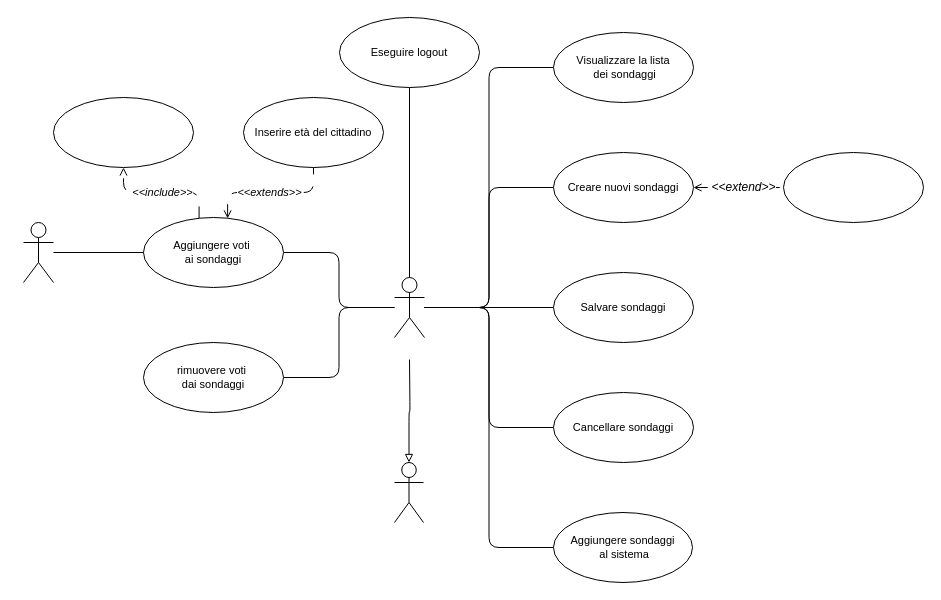
The diagram is 941 pixels wide and 600 high, and some of its shapes have lost their labels. Here are the shapes that lost their labels. From the top down, the centre of each, then its label:
the point at 123,132: Inserire circoscrizione e voto
the point at 853,187: Creare nuovi sondaggi da file
the point at 38,252: Cittadino
the point at 409,307: Sondaggista
the point at 409,492: Utente Non Loggato
